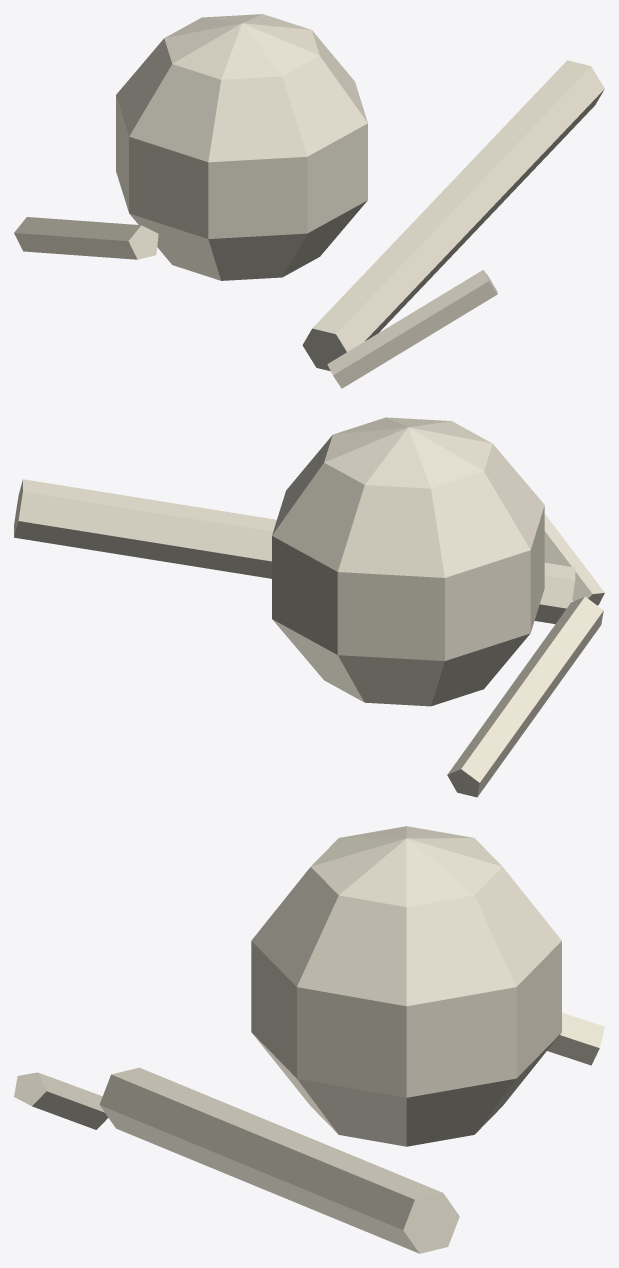
Rendered from bone_scatter.glb.
3 renders of one model, top to bottom at view 1: azimuth 30°, elevation 25°; view 2: azimuth 150°, elevation 25°; view 3: azimuth 270°, elevation 25°, orthographic. The views are drawn at different scales.
Visible parts, largest first — view 1: bone_scatter; view 2: bone_scatter; view 3: bone_scatter.
Boxes of the visible parts, x1,y1,x2,y2 form: bone_scatter: [14, 14, 604, 388]; bone_scatter: [14, 417, 604, 797]; bone_scatter: [14, 826, 604, 1253].
Size of the model in its own units: 0.3854 by 0.1882 by 0.3257.
